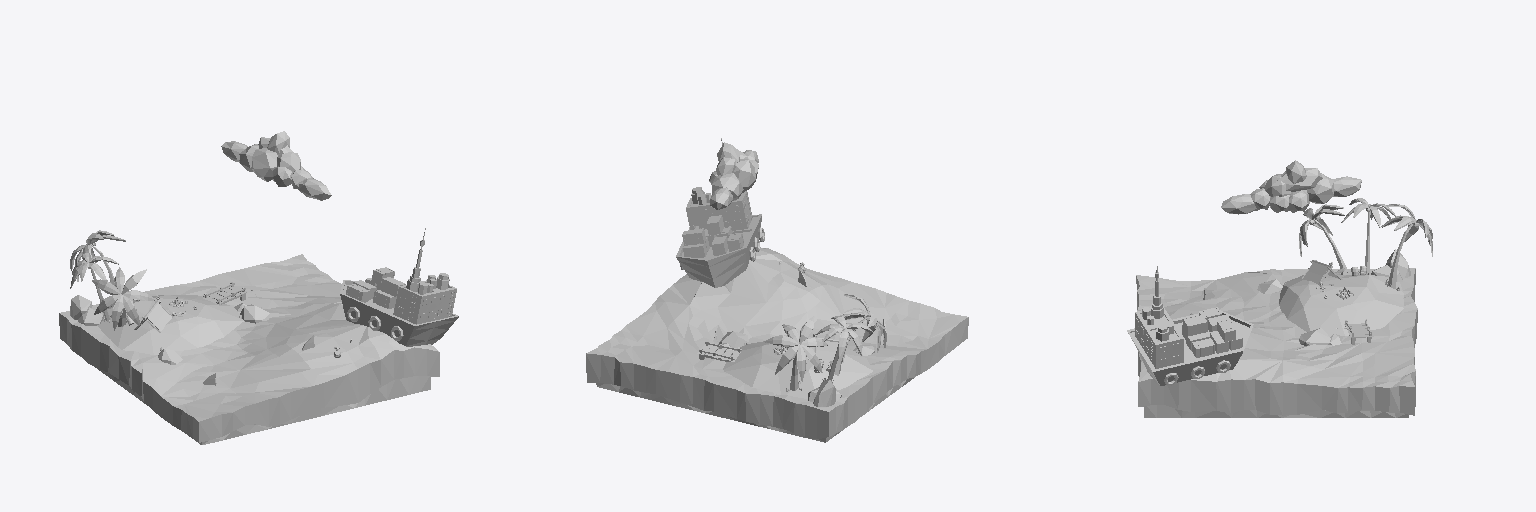
The model's file is island_with_ship.obj.
The picture shows the model from 3 angles: view 1: azimuth 30°, elevation 25°; view 2: azimuth 150°, elevation 25°; view 3: azimuth 270°, elevation 25°; orthographic projection.
Visible parts, largest first — view 1: water_diorama, cargoship, island, cloud_2, palm_tree (1), palm_tree_2, palm_tree, dock; view 2: water_diorama, cargoship, island, cloud_2, palm_tree, palm_tree_2, palm_tree (1), dock; view 3: water_diorama, cargoship, island, cloud_2, palm_tree, palm_tree (1), palm_tree_2.
Part boxes in pixels (x1,y1,x2,y2): water_diorama: (59,254,439,444); cargoship: (340,228,458,346); island: (97,295,243,354); cloud_2: (221,131,331,200); palm_tree (1): (92,267,155,330); palm_tree_2: (70,253,118,321); palm_tree: (70,230,125,287); dock: (203,282,246,304); water_diorama: (586,247,968,442); cargoship: (676,138,764,287); island: (723,338,872,398); cloud_2: (709,142,758,209); palm_tree: (764,316,827,390); palm_tree_2: (815,316,872,380); palm_tree (1): (834,294,886,375); dock: (697,341,741,361); water_diorama: (1136,268,1417,417); cargoship: (1127,266,1253,385); island: (1279,274,1403,336); cloud_2: (1221,160,1361,214); palm_tree: (1381,204,1432,288); palm_tree (1): (1299,204,1347,270); palm_tree_2: (1341,198,1396,274).
Bounding box in the file's own units: 4.15 × 3.13 × 3.94.